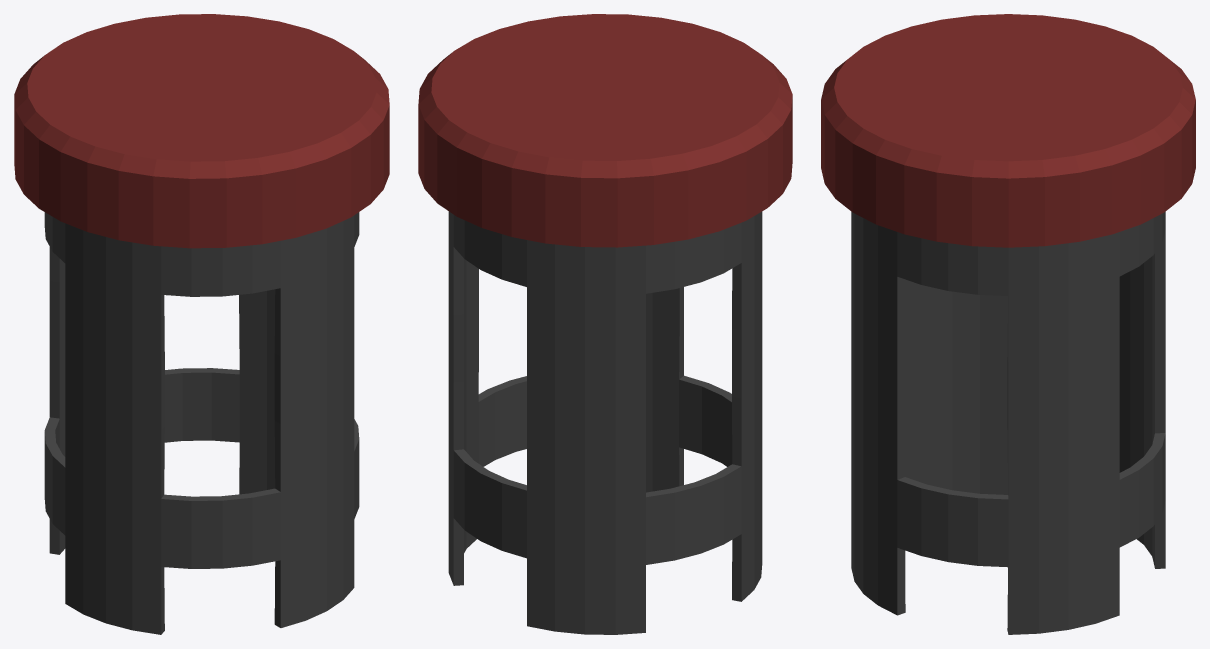
The model's file is Barhocker.glb.
3 renders of one model, left to right at view 1: azimuth 30°, elevation 25°; view 2: azimuth 150°, elevation 25°; view 3: azimuth 270°, elevation 25°, orthographic.
Parts seen in each view (by area): view 1: Barhocker; view 2: Barhocker; view 3: Barhocker.
Boxes of the visible parts, x1=… form: Barhocker: x1=14, y1=14, x2=389, y2=634; Barhocker: x1=418, y1=14, x2=792, y2=634; Barhocker: x1=821, y1=14, x2=1195, y2=634.
Bounding box in the file's own units: 0.7159 × 1.01 × 0.7159.
